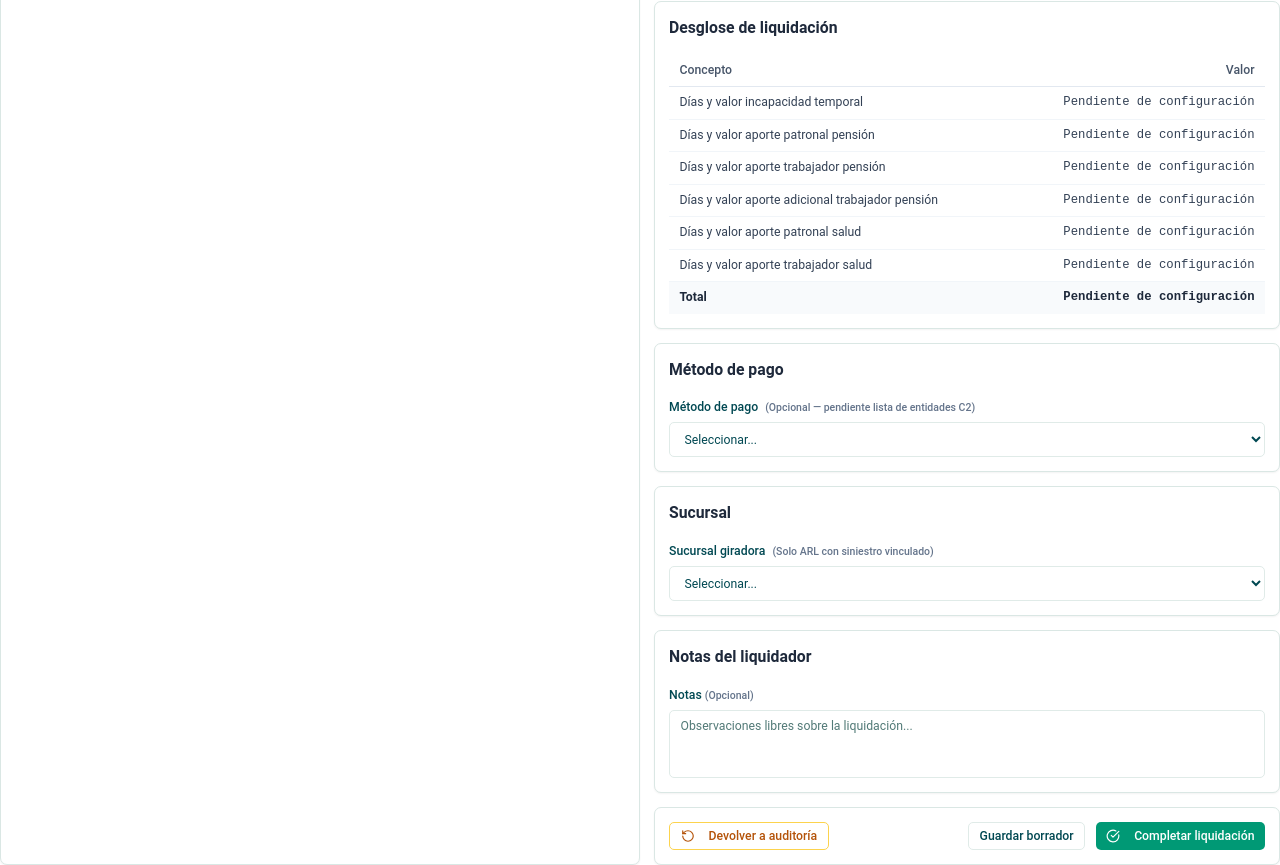
LiquidacionPage › shows IBL required error when trying to save without IBL value
(page scrolled)
Submit without filling IBL
Click the button "Guardar borrador".
click(1027, 836)  # box [968, 822, 1085, 850]
(page scrolled)
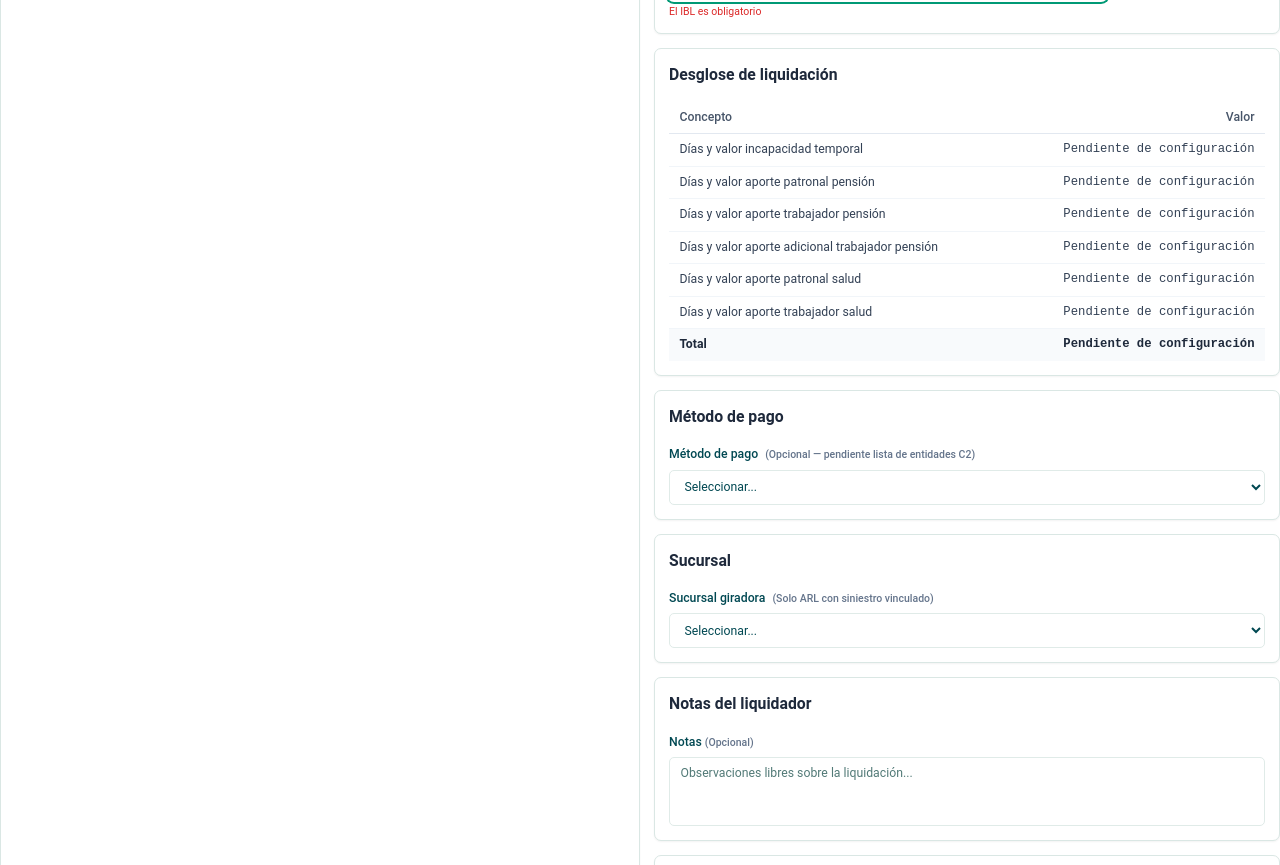
Expected: the text "El IBL es obligatorio" is shown, [669, 5, 761, 18]
